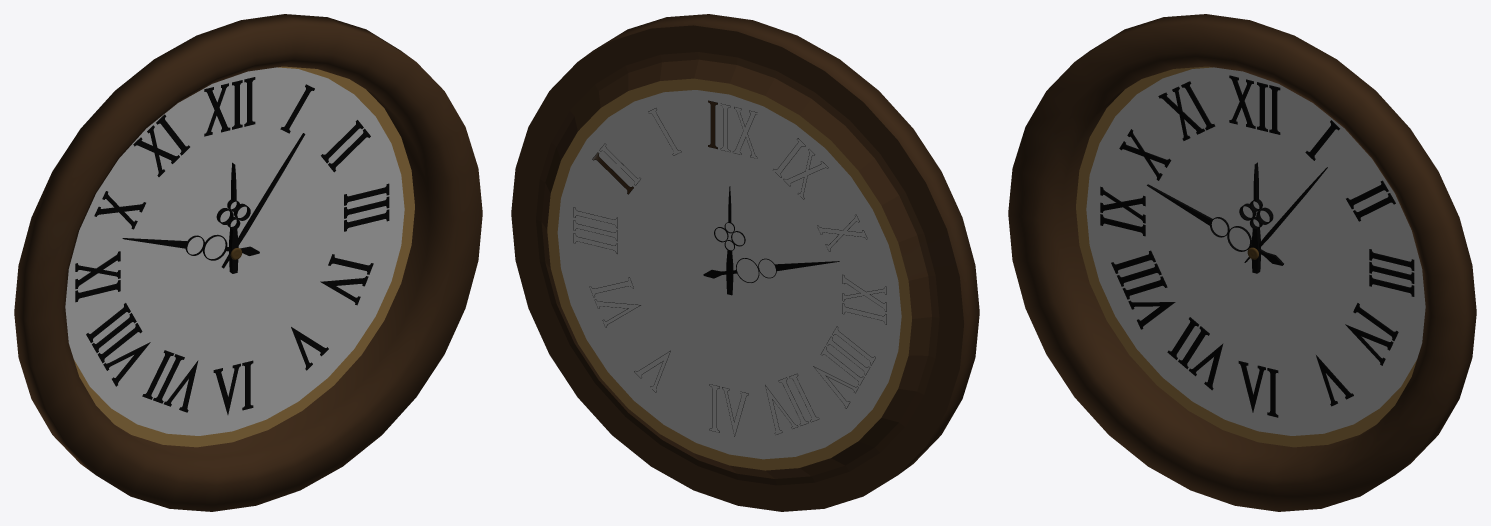
File: reloj.fbx
The picture shows the model from 3 angles, left to right: view 1: azimuth 30°, elevation 25°; view 2: azimuth 150°, elevation 25°; view 3: azimuth 330°, elevation 25°; orthographic projection.
Parts seen in each view (by area): view 1: Circle; view 2: Circle; view 3: Circle.
Boxes of the visible parts, box(x1,y1,x2,y2) form: Circle: box(14, 14, 482, 511); Circle: box(511, 14, 979, 511); Circle: box(1008, 14, 1476, 511).
Size of the model in its own units: 1435 by 1435 by 133.
